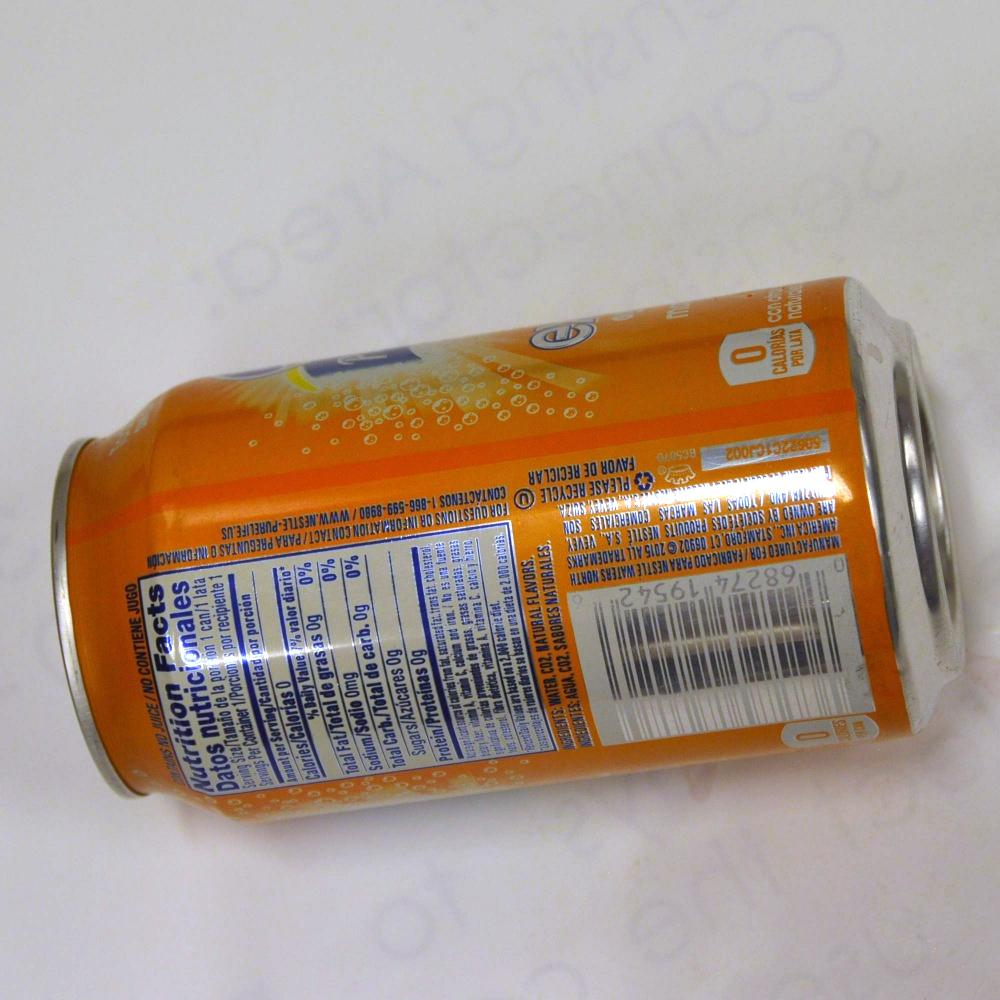Metal: (45, 290, 948, 887)
